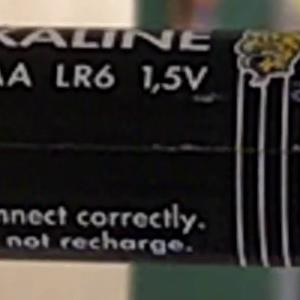keyword: (47, 56, 124, 96)
